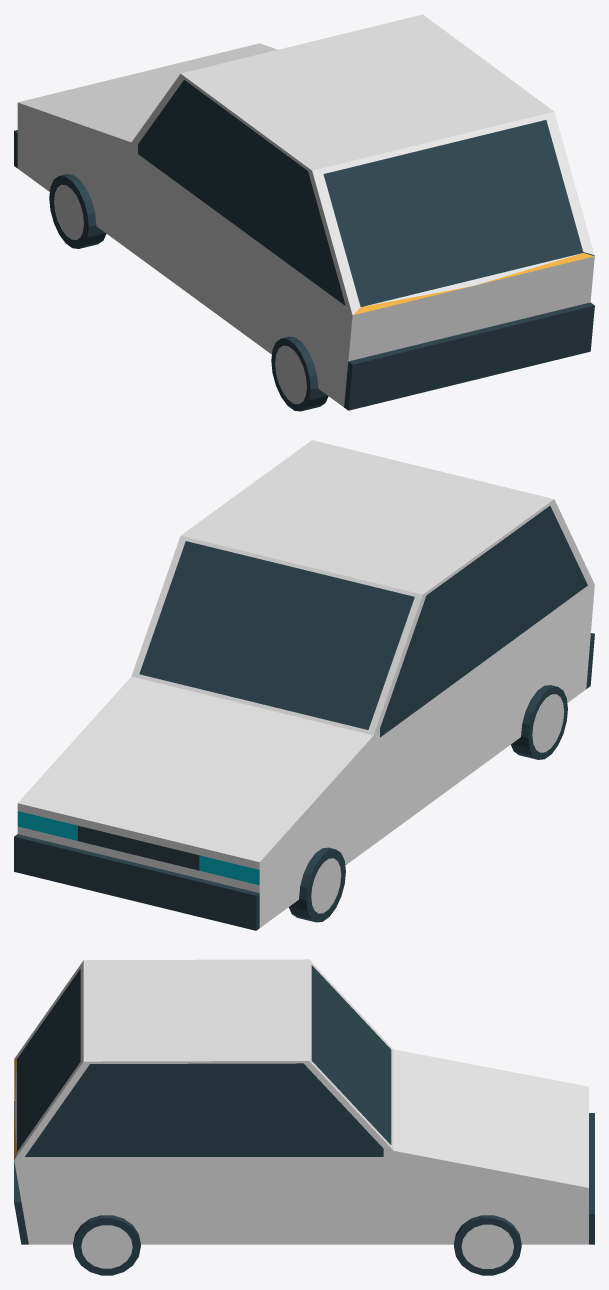
Rendered from Car1x1.fbx.
3 views of the same model, one above another, from view 1: azimuth 30°, elevation 25°; view 2: azimuth 150°, elevation 25°; view 3: azimuth 270°, elevation 25° (orthographic). The views are drawn at different scales.
Visible parts, largest first — view 1: CAR_03_2_3; view 2: CAR_03_2_3; view 3: CAR_03_2_3.
Part boxes in pixels (<box>): CAR_03_2_3: <box>14,14,594,411</box>; CAR_03_2_3: <box>14,440,594,930</box>; CAR_03_2_3: <box>14,959,594,1275</box>.
Bounding box in the file's own units: 0.4304 × 0.3941 × 0.9813.
Materials: 1 (1 with a texture image).
